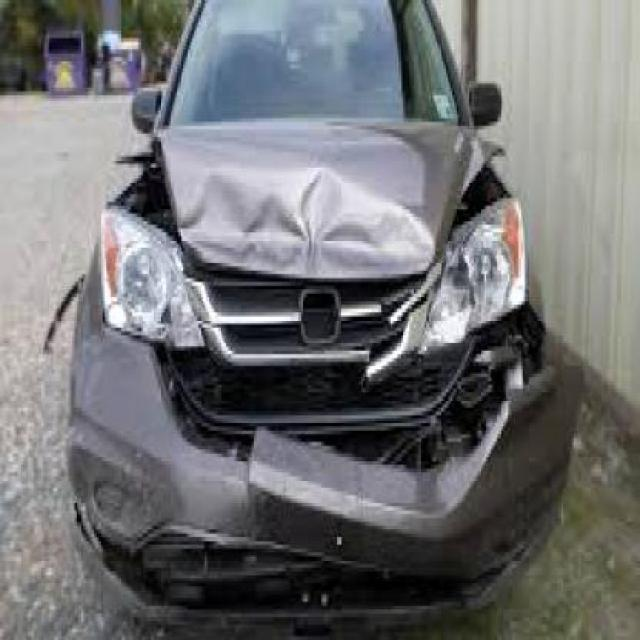damaged-front-bumper: (73, 322, 582, 610)
